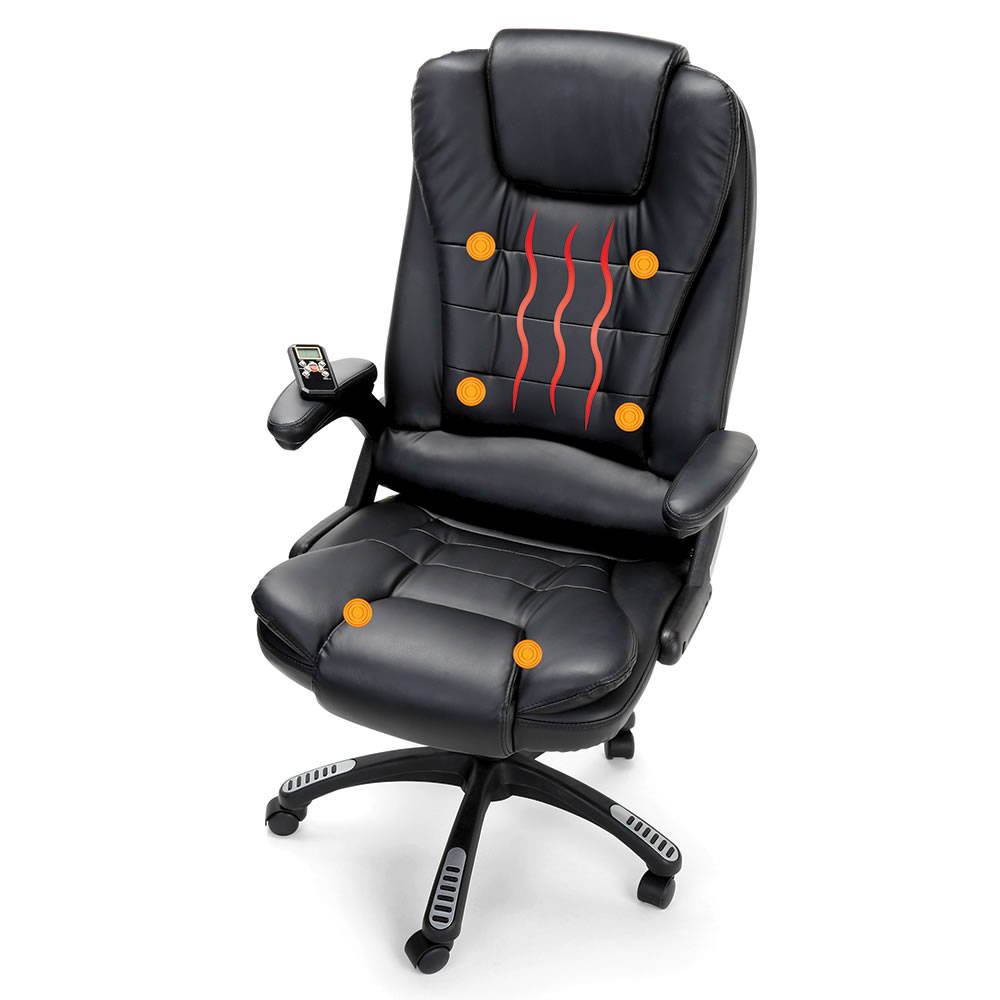chairs: (240, 17, 763, 979)
